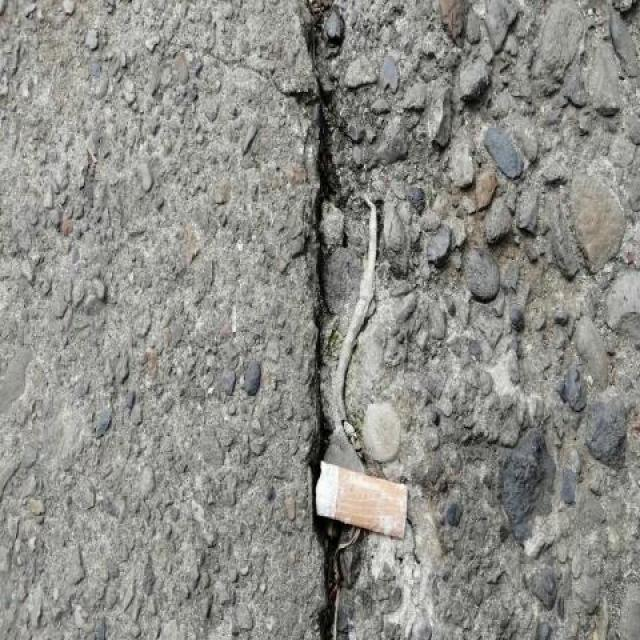non-organic waste: (308, 456, 411, 544)
